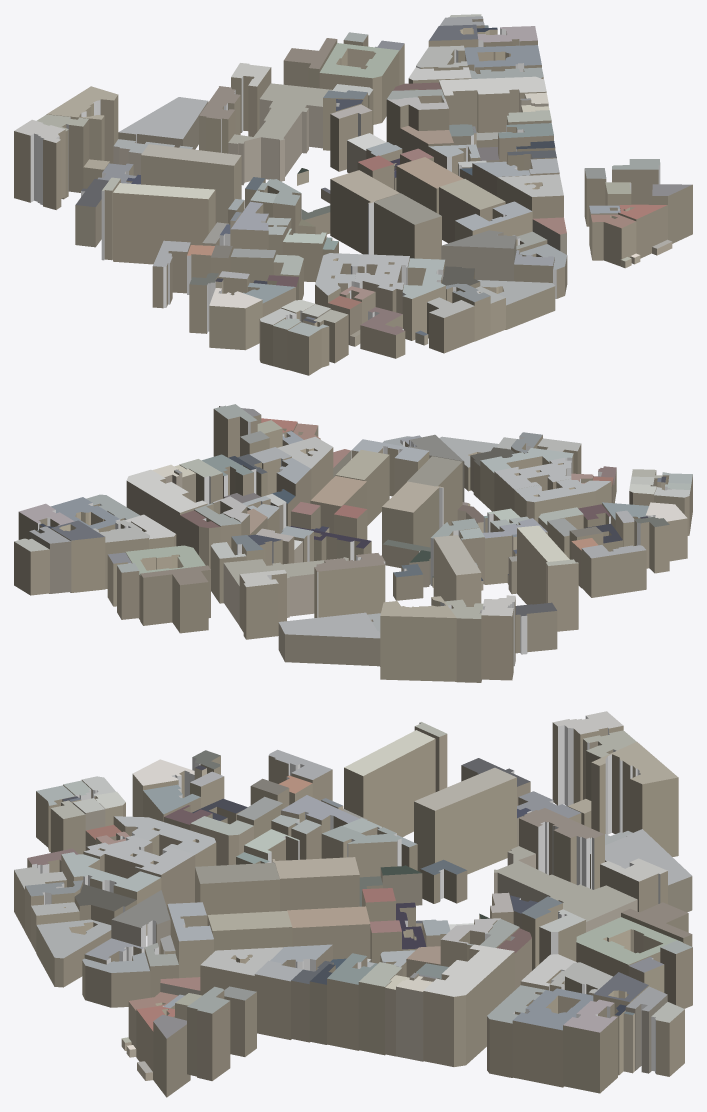
3 views of the same model, one above another, from view 1: azimuth 30°, elevation 25°; view 2: azimuth 150°, elevation 25°; view 3: azimuth 270°, elevation 25° (orthographic). The views are drawn at different scales.
Visible parts, largest first — view 1: tuile; view 2: tuile; view 3: tuile.
Boxes of the visible parts, x1,y1,x2,y2 form: tuile: (14, 14, 692, 375); tuile: (14, 404, 692, 682); tuile: (14, 711, 692, 1097).
Bounding box in the file's own units: 274 × 44.12 × 263.
